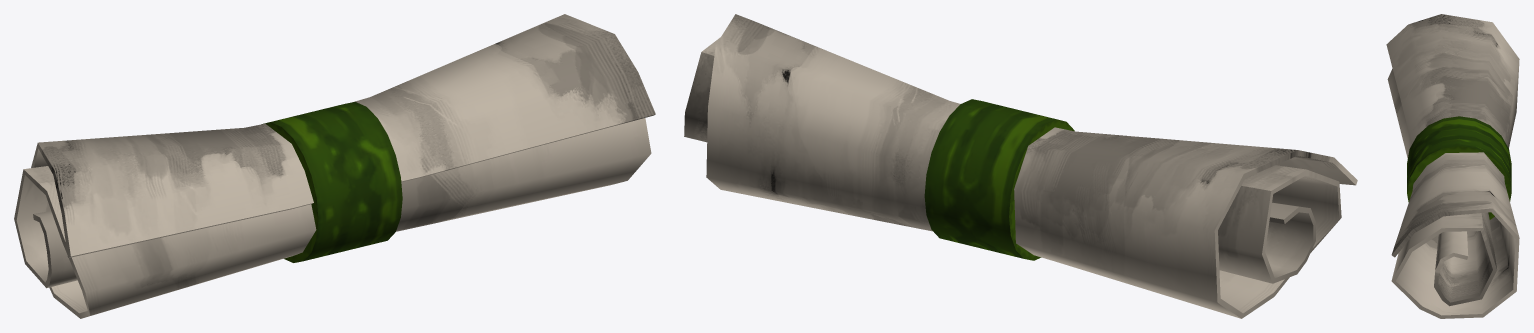
The model's file is Scroll_1.gltf.
3 views of the same model, side by side, from view 1: azimuth 30°, elevation 25°; view 2: azimuth 150°, elevation 25°; view 3: azimuth 270°, elevation 25° (orthographic). The views are drawn at different scales.
Visible parts, largest first — view 1: Scroll_1; view 2: Scroll_1; view 3: Scroll_1.
Boxes of the visible parts, box(x1,y1,x2,y2) form: Scroll_1: box(14, 14, 655, 318); Scroll_1: box(684, 14, 1357, 318); Scroll_1: box(1386, 14, 1519, 318).
Bounding box in the file's own units: 0.2439 × 0.0588 × 0.0631.
2 materials, 2 textured.
